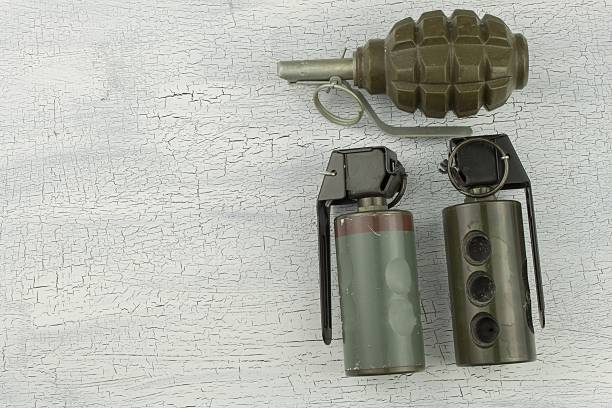e1: (276, 11, 531, 136), (436, 137, 563, 369), (314, 148, 431, 377)
